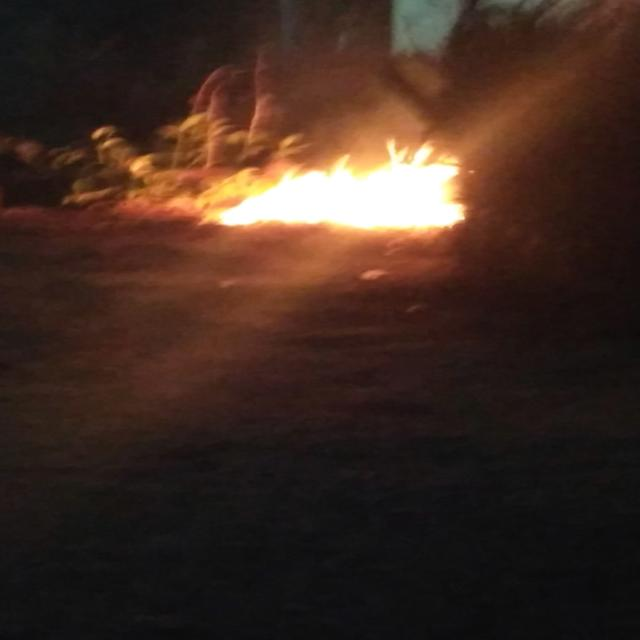firerotation: (198, 134, 474, 232)
